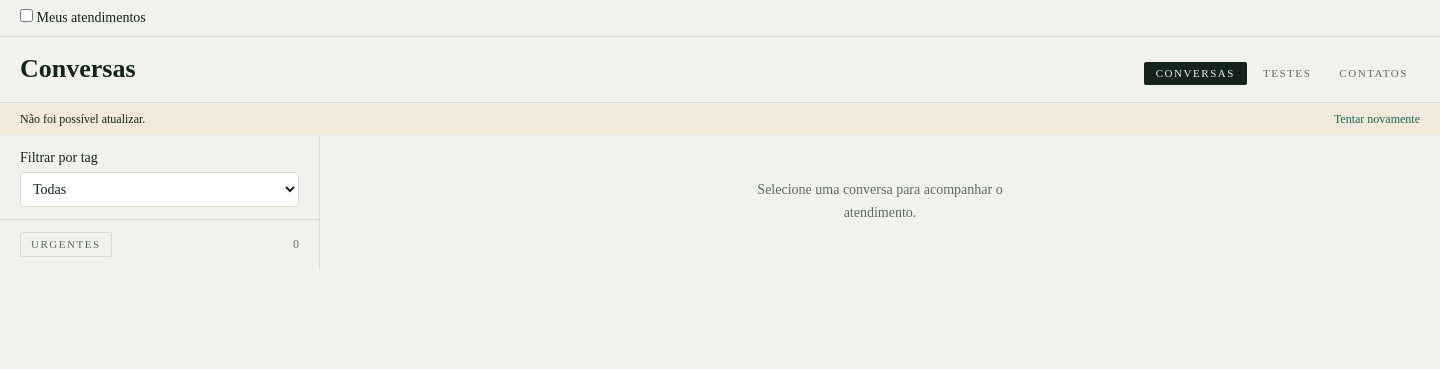
Scenario: ConversationsPanel — abas › diferencia falha de rede de lista vazia e permite tentar novamente
The width and height of the screenshot is (1440, 369).
Expected: the text "Não foi possível atualizar." is shown, [20, 110, 145, 126]
Expected: the text "Nenhuma conversa por aqui" is not shown
Click the button "Tentar novamente" at (1377, 118), box [1334, 110, 1420, 126]
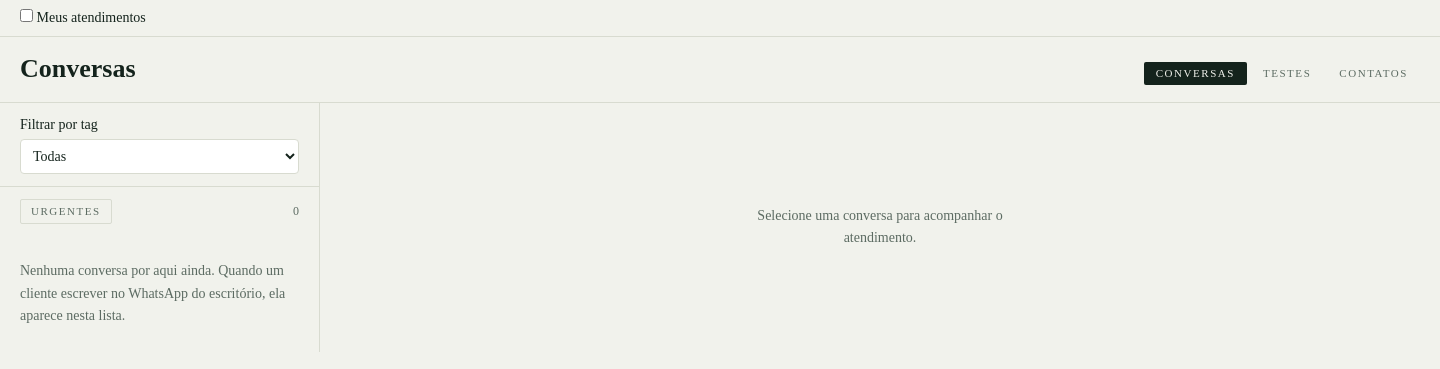
Expected: the text "Nenhuma conversa por aqui" is shown, [20, 263, 285, 323]
Expected: the text "Não foi possível atualizar." is gone
